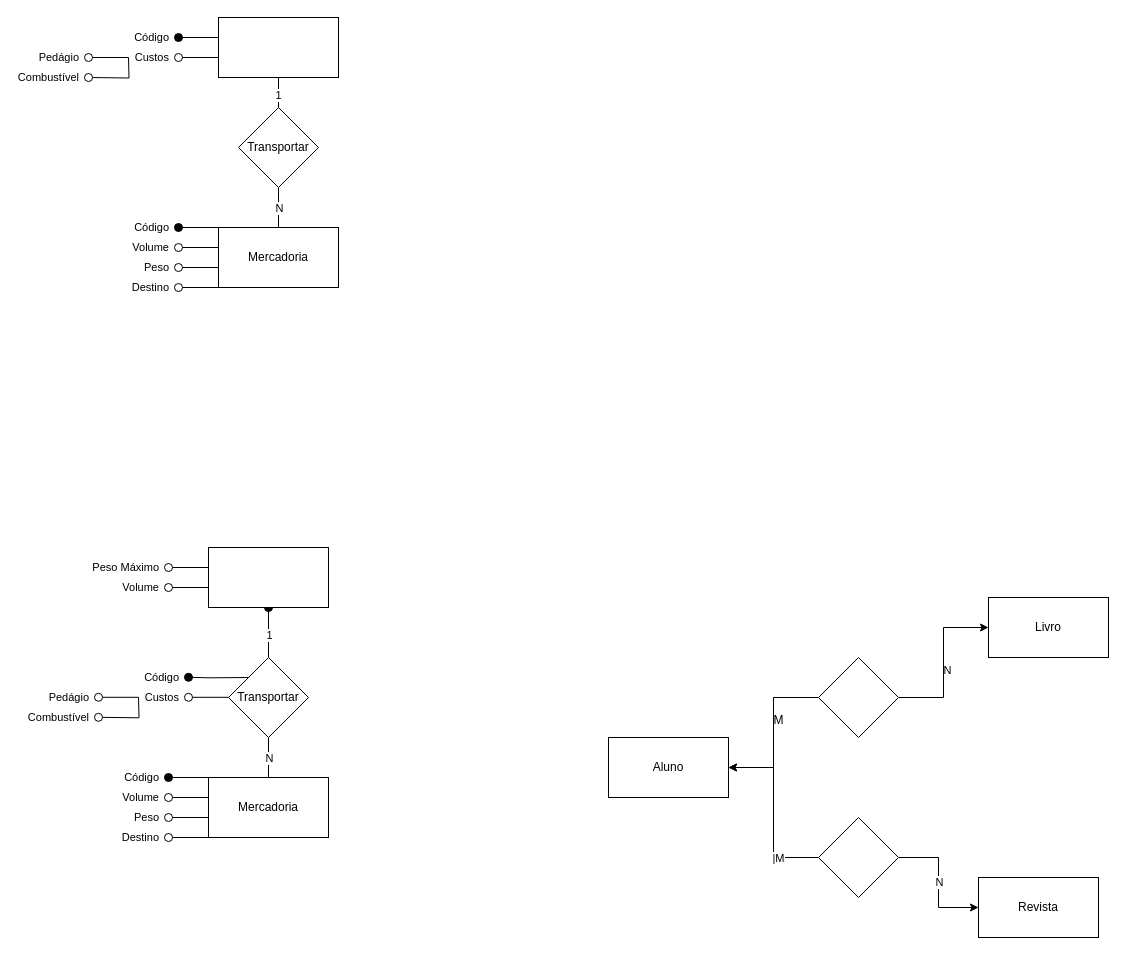
The diagram is 1126 pixels wide and 955 high, and some of its shapes have lost their labels. The centre of each missing label's shape, as x and y in pixels:
"Caminhão" belongs at [268,577].
"Emprestar Livro" belongs at [858,697].
"Emprestar revista" belongs at [858,857].
"Viagem" belongs at [278,47].
